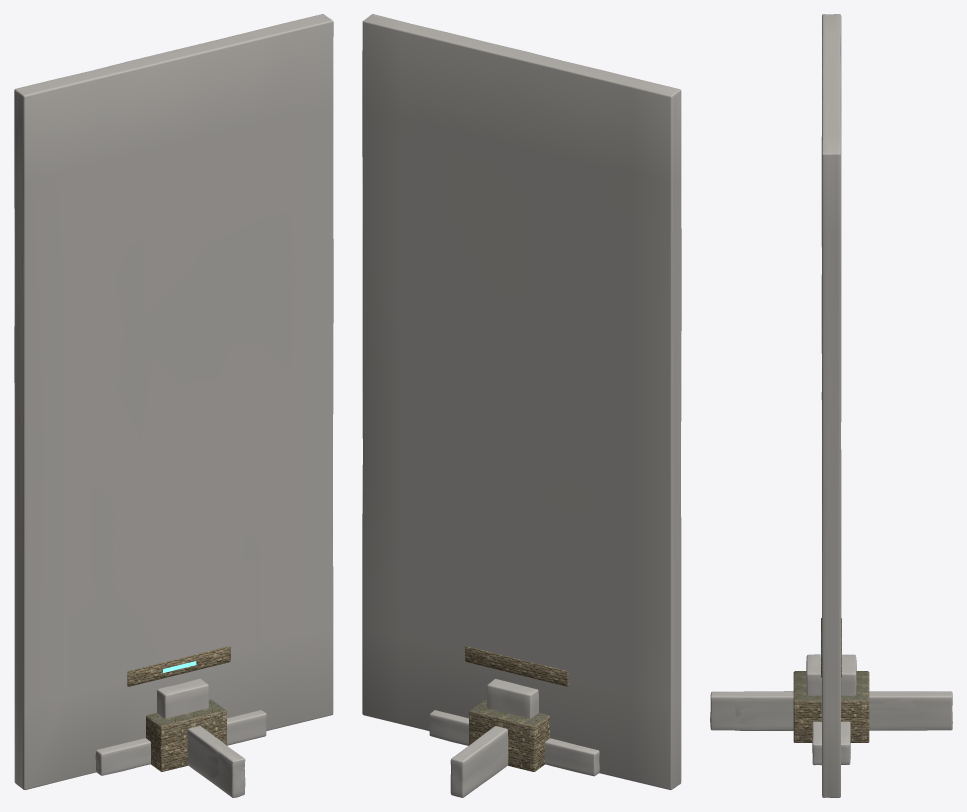
The model's file is gateway.glb.
The picture shows the model from 3 angles, left to right: view 1: azimuth 30°, elevation 25°; view 2: azimuth 150°, elevation 25°; view 3: azimuth 270°, elevation 25°; orthographic projection. The views are drawn at different scales.
Parts seen in each view (by area): view 1: block_cliff, block_step2, block_aqB, block_chamberE, shard_arch, block_ledge, block_chamberW; view 2: block_cliff, block_step2, block_aqA, block_chamberE, shard_arch, block_ledge; view 3: block_cliff, block_chamberE, block_step2, block_chamberW, block_ledge, block_aqA.
Part boxes in pixels (left/top/right/bottom): block_cliff: left=14, top=14, right=333, bottom=789; block_step2: left=146, top=699, right=226, bottom=771; block_aqB: left=95, top=710, right=266, bottom=775; block_chamberE: left=187, top=726, right=245, bottom=797; shard_arch: left=127, top=646, right=230, bottom=686; block_ledge: left=157, top=678, right=208, bottom=718; block_chamberW: left=187, top=738, right=224, bottom=779; block_cliff: left=362, top=14, right=681, bottom=790; block_step2: left=469, top=699, right=549, bottom=771; block_aqA: left=429, top=710, right=599, bottom=776; block_chamberE: left=450, top=726, right=508, bottom=797; shard_arch: left=465, top=646, right=568, bottom=686; block_ledge: left=487, top=679, right=538, bottom=718; block_cliff: left=821, top=14, right=841, bottom=797; block_chamberE: left=710, top=691, right=952, bottom=730; block_step2: left=793, top=671, right=869, bottom=742; block_chamberW: left=735, top=692, right=927, bottom=730; block_ledge: left=806, top=654, right=856, bottom=695; block_aqA: left=812, top=721, right=850, bottom=765.
Size of the model in its own units: 14.03 by 30.02 by 10.24.
8 materials, 6 textured.
